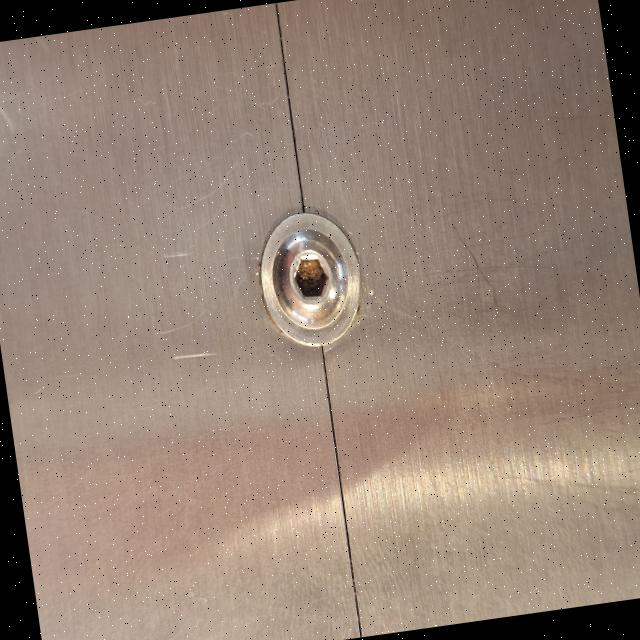Hex Socket Allen: (234, 195, 382, 366)
